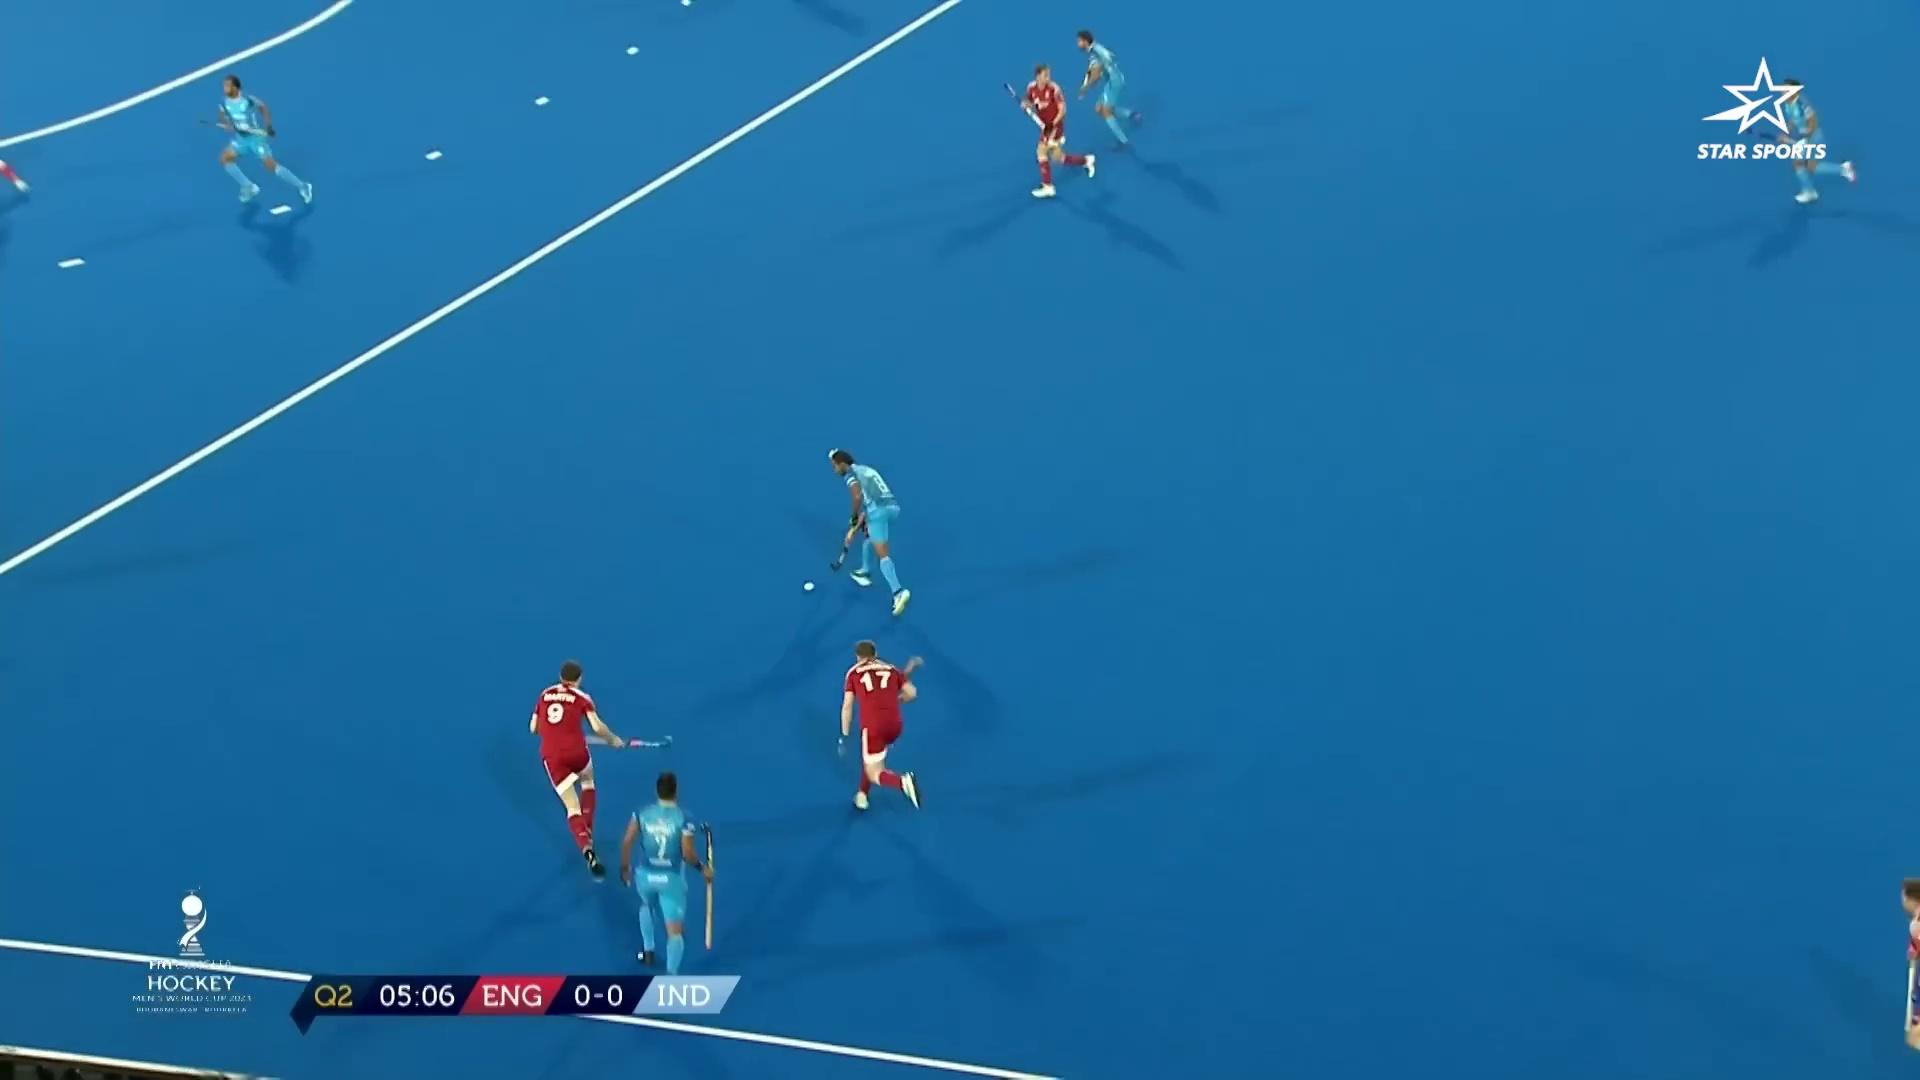ball: (800, 575, 823, 597)
